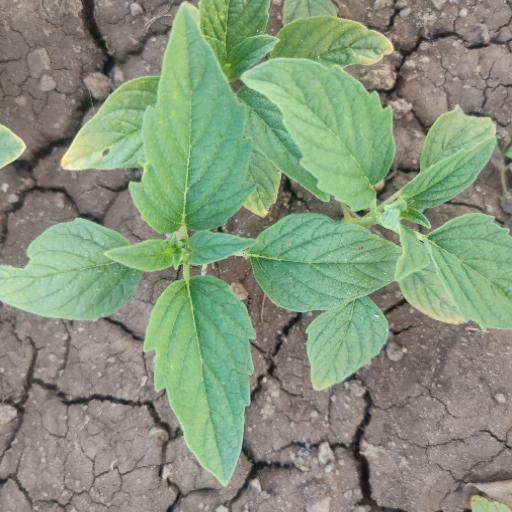crop: (9, 15, 512, 445)
